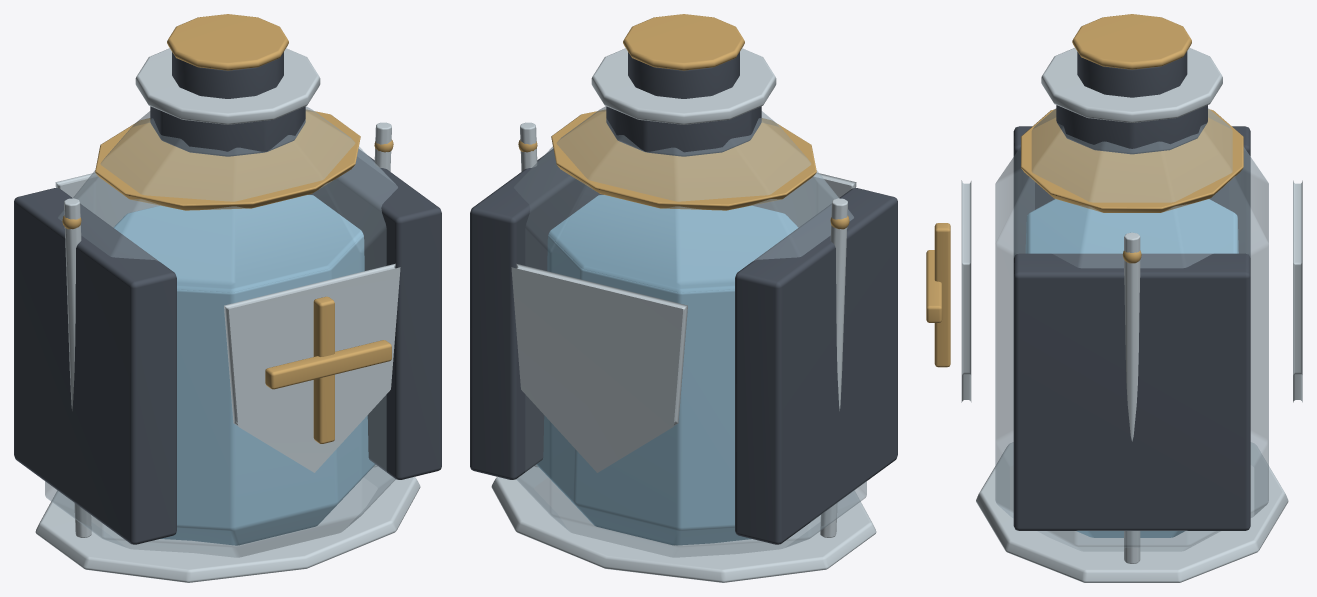
Rendered from SM_Flask_Ironclad.fbx.
3 views of the same model, side by side, from view 1: azimuth 30°, elevation 25°; view 2: azimuth 150°, elevation 25°; view 3: azimuth 270°, elevation 25° (orthographic).
Visible parts, largest first — view 1: glass_CutVessel, dark_ArmorPlating, liquid_ContainedEssence, metal_Shield_Front, dark_ArmorPlating.001, metal_BaseRing, liquid_Meniscus, gold_ShoulderRim, metal_MouthLip, gold_CapInset, dark_NeckSleeve, dark_SealedStopper (+5 smaller); view 2: glass_CutVessel, dark_ArmorPlating, liquid_ContainedEssence, metal_Shield_Back, dark_ArmorPlating.001, metal_BaseRing, liquid_Meniscus, gold_ShoulderRim, metal_MouthLip, gold_CapInset, dark_NeckSleeve, dark_SealedStopper (+3 smaller); view 3: dark_ArmorPlating.001, glass_CutVessel, metal_BaseRing, gold_ShoulderRim, liquid_Meniscus, metal_MouthLip, gold_CapInset, dark_NeckSleeve, dark_ArmorPlating, metal_CradleRail.001, dark_SealedStopper, metal_Shield_Front (+4 smaller).
Part boxes in pixels (x1,y1,x2,y2): glass_CutVessel: (45, 106, 397, 557); dark_ArmorPlating: (14, 188, 176, 544); liquid_ContainedEssence: (115, 223, 375, 545); metal_Shield_Front: (224, 263, 400, 472); dark_ArmorPlating.001: (308, 149, 441, 479); metal_BaseRing: (35, 466, 420, 582); liquid_Meniscus: (113, 195, 362, 292); gold_ShoulderRim: (95, 109, 360, 210); metal_MouthLip: (135, 48, 320, 124); gold_CapInset: (167, 14, 288, 70); dark_NeckSleeve: (150, 106, 305, 156); dark_SealedStopper: (172, 52, 283, 98); glass_CutVessel: (514, 106, 866, 557); dark_ArmorPlating: (735, 188, 897, 544); liquid_ContainedEssence: (536, 223, 796, 545); metal_Shield_Back: (511, 263, 687, 472); dark_ArmorPlating.001: (470, 149, 603, 479); metal_BaseRing: (491, 466, 876, 582); liquid_Meniscus: (549, 195, 798, 292); gold_ShoulderRim: (551, 109, 816, 210); metal_MouthLip: (591, 48, 776, 124); gold_CapInset: (623, 14, 744, 70); dark_NeckSleeve: (606, 106, 761, 156); dark_SealedStopper: (628, 52, 739, 98); dark_ArmorPlating.001: (1013, 253, 1250, 530); glass_CutVessel: (995, 108, 1268, 551); metal_BaseRing: (976, 442, 1288, 582); gold_ShoulderRim: (1021, 109, 1243, 212); liquid_Meniscus: (1027, 199, 1236, 253); metal_MouthLip: (1041, 47, 1222, 122); gold_CapInset: (1072, 14, 1191, 69); dark_NeckSleeve: (1056, 105, 1207, 154); dark_ArmorPlating: (1013, 126, 1250, 257); metal_CradleRail.001: (1124, 232, 1140, 563); dark_SealedStopper: (1077, 51, 1187, 97); metal_Shield_Front: (961, 180, 971, 402).
Size of the model in its own units: 36.08 by 49.5 by 35.55.
